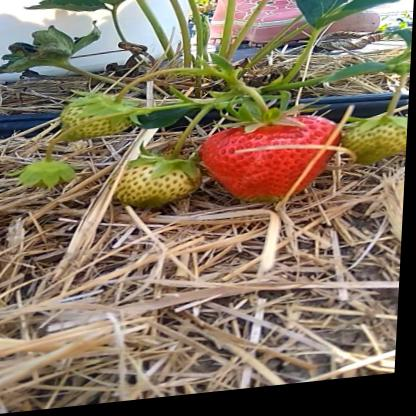ripe: (205, 118, 346, 220)
unripe: (109, 150, 211, 217), (59, 92, 135, 149), (347, 123, 410, 180), (24, 157, 81, 196)
